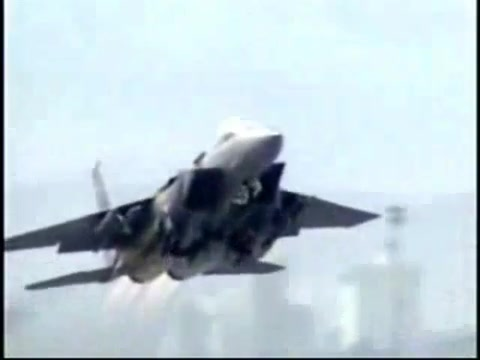aeroplane: (4, 117, 383, 292)
